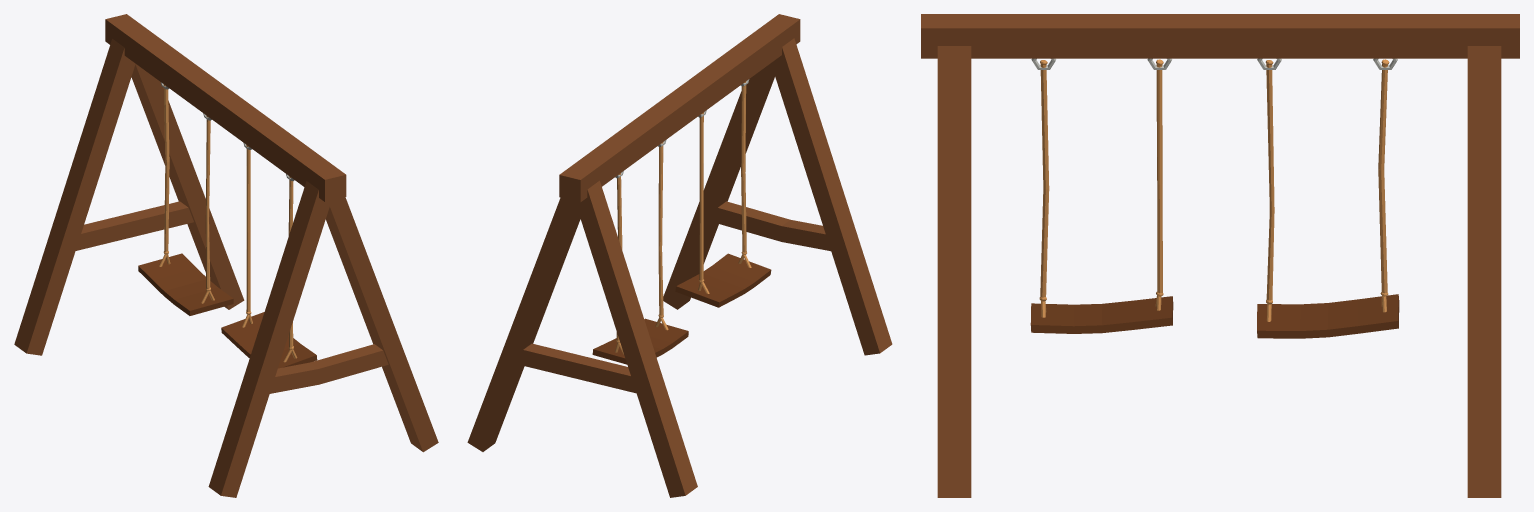
File: Swing.fbx
3 views of the same model, side by side, from view 1: azimuth 30°, elevation 25°; view 2: azimuth 150°, elevation 25°; view 3: azimuth 270°, elevation 25° (orthographic). The views are drawn at different scales.
Parts seen in each view (by area): view 1: Cube.8190; view 2: Cube.8190; view 3: Cube.8190.
Part boxes in pixels (box(x1,y1,x2,y2)): Cube.8190: box(14, 14, 438, 497); Cube.8190: box(467, 14, 892, 497); Cube.8190: box(921, 14, 1519, 497).
Bounding box in the file's own units: 229 × 304 × 400.
Materials: 1 (1 with a texture image).
